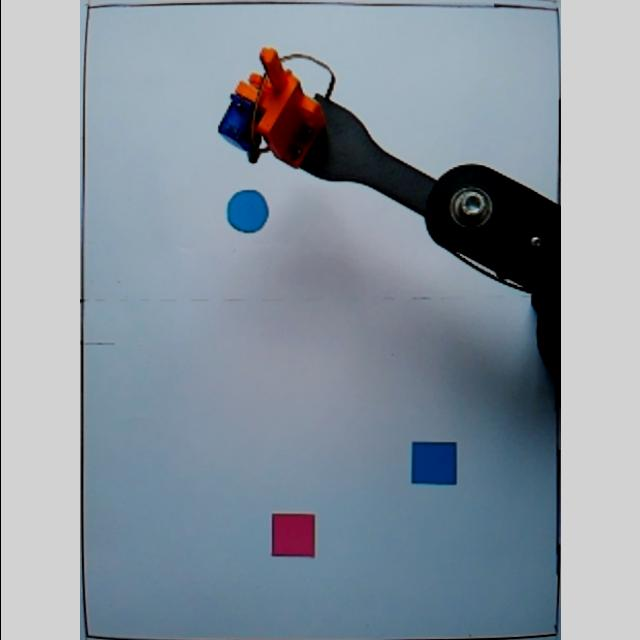blueCircle: (224, 187, 270, 236)
blueSquare: (407, 439, 459, 487)
pinkSquare: (268, 509, 318, 563)
